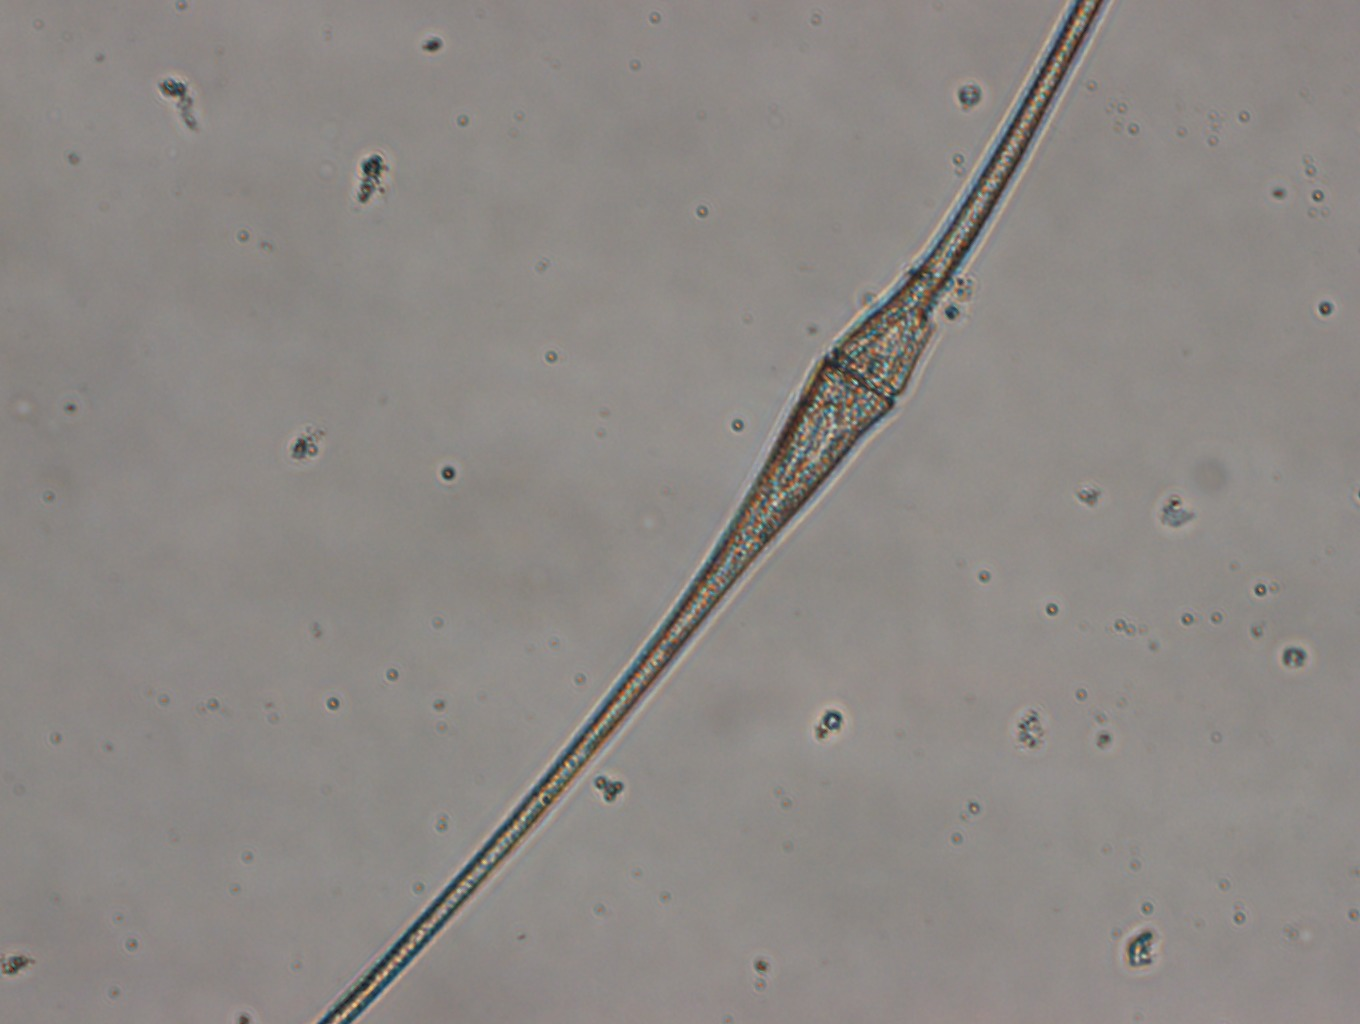ceratium fusus: (314, 1, 1110, 1024)
